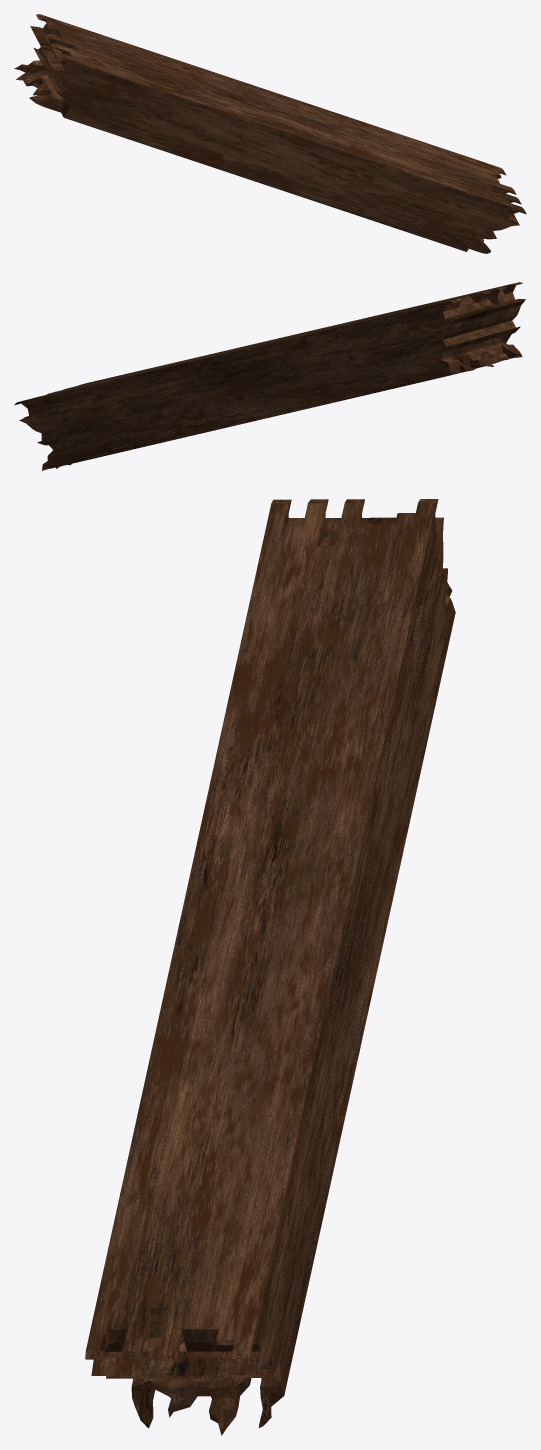
Rendered from MaderaRota_TechoIzquierda.fbx.
The picture shows the model from 3 angles, top to bottom: view 1: azimuth 30°, elevation 25°; view 2: azimuth 150°, elevation 25°; view 3: azimuth 270°, elevation 25°; orthographic projection. The views are drawn at different scales.
Visible parts, largest first — view 1: Cube.015; view 2: Cube.015; view 3: Cube.015.
Part boxes in pixels (x1=…): Cube.015: x1=14, y1=14, x2=526, y2=253; Cube.015: x1=14, y1=282, x2=526, y2=470; Cube.015: x1=85, y1=499, x2=455, y2=1435.
Size of the model in its own units: 1230 by 720 by 435.
Materials: 1 (1 with a texture image).
